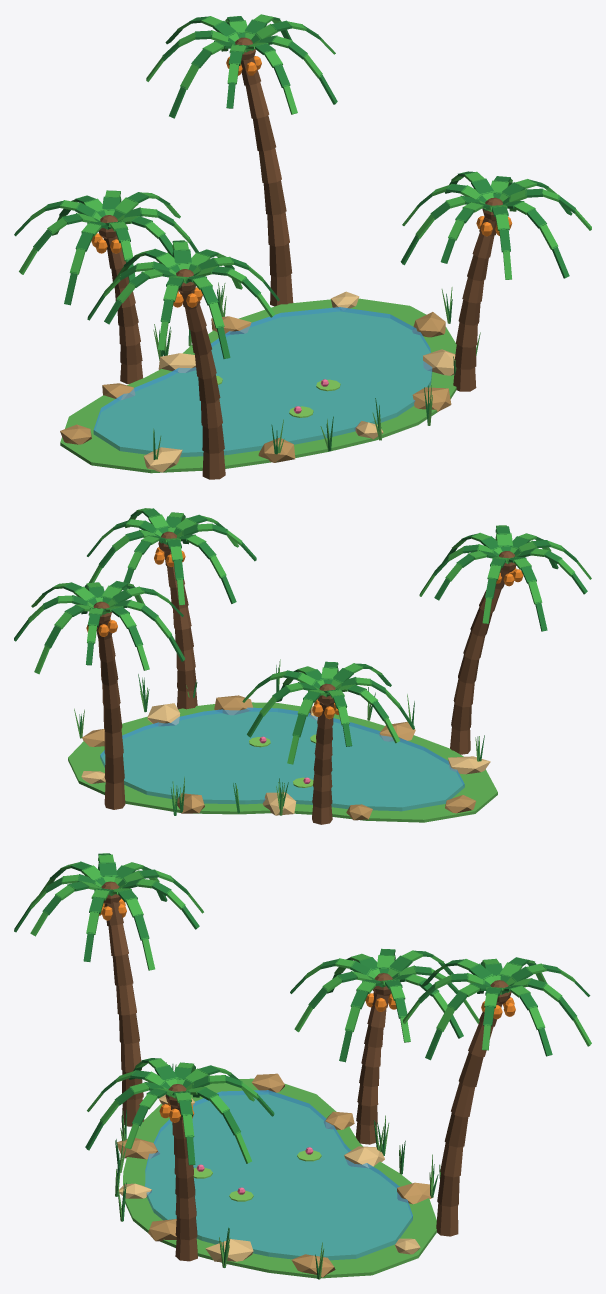
The model's file is OasisPool.fbx.
3 renders of one model, top to bottom at view 1: azimuth 30°, elevation 25°; view 2: azimuth 150°, elevation 25°; view 3: azimuth 270°, elevation 25°, orthographic. The views are drawn at different scales.
Visible parts, largest first — view 1: OasisPool_Grass, OasisPool_Water, OasisPool_LeafDark, OasisPool_Leaf, OasisPool_WoodDark, OasisPool_Bark, OasisPool_SandstoneDark, OasisPool_Sandstone, OasisPool_Orange; view 2: OasisPool_Grass, OasisPool_Water, OasisPool_LeafDark, OasisPool_Leaf, OasisPool_WoodDark, OasisPool_Bark, OasisPool_SandstoneDark, OasisPool_Sandstone, OasisPool_Orange; view 3: OasisPool_Grass, OasisPool_Water, OasisPool_LeafDark, OasisPool_Leaf, OasisPool_WoodDark, OasisPool_Bark, OasisPool_SandstoneDark, OasisPool_Sandstone, OasisPool_Orange, OasisPool_LeafLight.
Part boxes in pixels (bbox=[...]): OasisPool_Grass: bbox=[60, 282, 480, 473]; OasisPool_Water: bbox=[93, 307, 432, 457]; OasisPool_LeafDark: bbox=[14, 14, 575, 461]; OasisPool_Leaf: bbox=[19, 14, 591, 350]; OasisPool_WoodDark: bbox=[98, 37, 502, 479]; OasisPool_Bark: bbox=[104, 57, 496, 453]; OasisPool_SandstoneDark: bbox=[60, 312, 451, 462]; OasisPool_Sandstone: bbox=[143, 291, 455, 472]; OasisPool_Orange: bbox=[91, 56, 512, 307]; OasisPool_Grass: bbox=[68, 659, 497, 822]; OasisPool_Water: bbox=[100, 707, 464, 811]; OasisPool_LeafDark: bbox=[14, 508, 587, 815]; OasisPool_Leaf: bbox=[28, 508, 591, 764]; OasisPool_WoodDark: bbox=[93, 531, 516, 824]; OasisPool_Bark: bbox=[96, 552, 508, 808]; OasisPool_SandstoneDark: bbox=[82, 695, 475, 820]; OasisPool_Sandstone: bbox=[81, 703, 490, 815]; OasisPool_Orange: bbox=[86, 547, 523, 719]; OasisPool_Grass: bbox=[115, 1064, 440, 1279]; OasisPool_Water: bbox=[145, 1090, 412, 1260]; OasisPool_LeafDark: bbox=[14, 853, 590, 1279]; OasisPool_Leaf: bbox=[29, 853, 591, 1163]; OasisPool_WoodDark: bbox=[101, 881, 511, 1261]; OasisPool_Bark: bbox=[104, 901, 502, 1240]; OasisPool_SandstoneDark: bbox=[117, 1073, 433, 1277]; OasisPool_Sandstone: bbox=[119, 1094, 420, 1261]; OasisPool_Orange: bbox=[99, 898, 515, 1122]; OasisPool_LeafLight: bbox=[193, 1150, 321, 1201].
Bounding box in the file's own units: 42.95 × 20.54 × 42.53.
